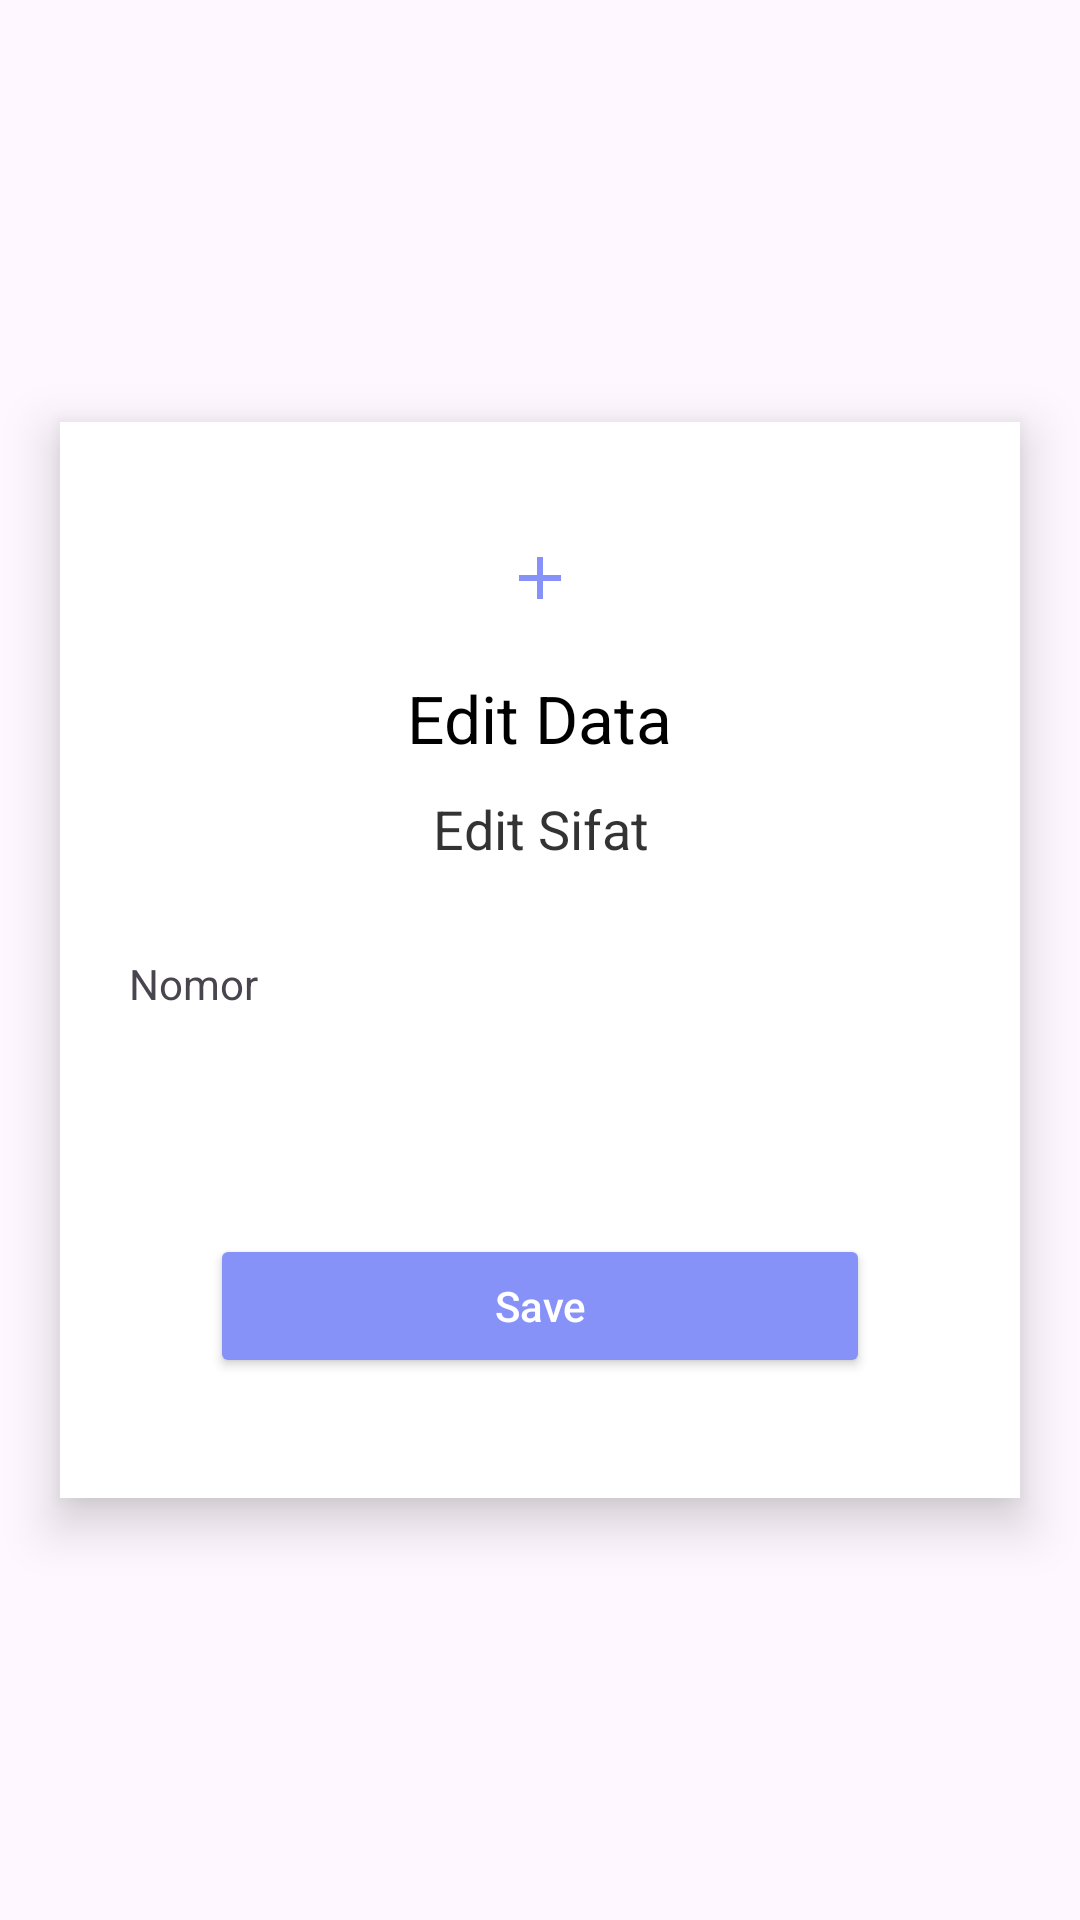

Icon click points for this 1080*1920 phone screenshot, format point (x, y):
add: point (540, 578)
